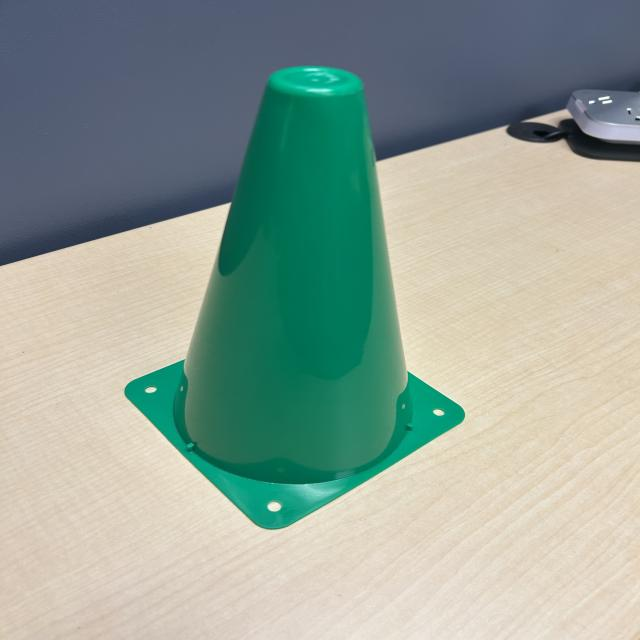green cone: (119, 59, 468, 533)
